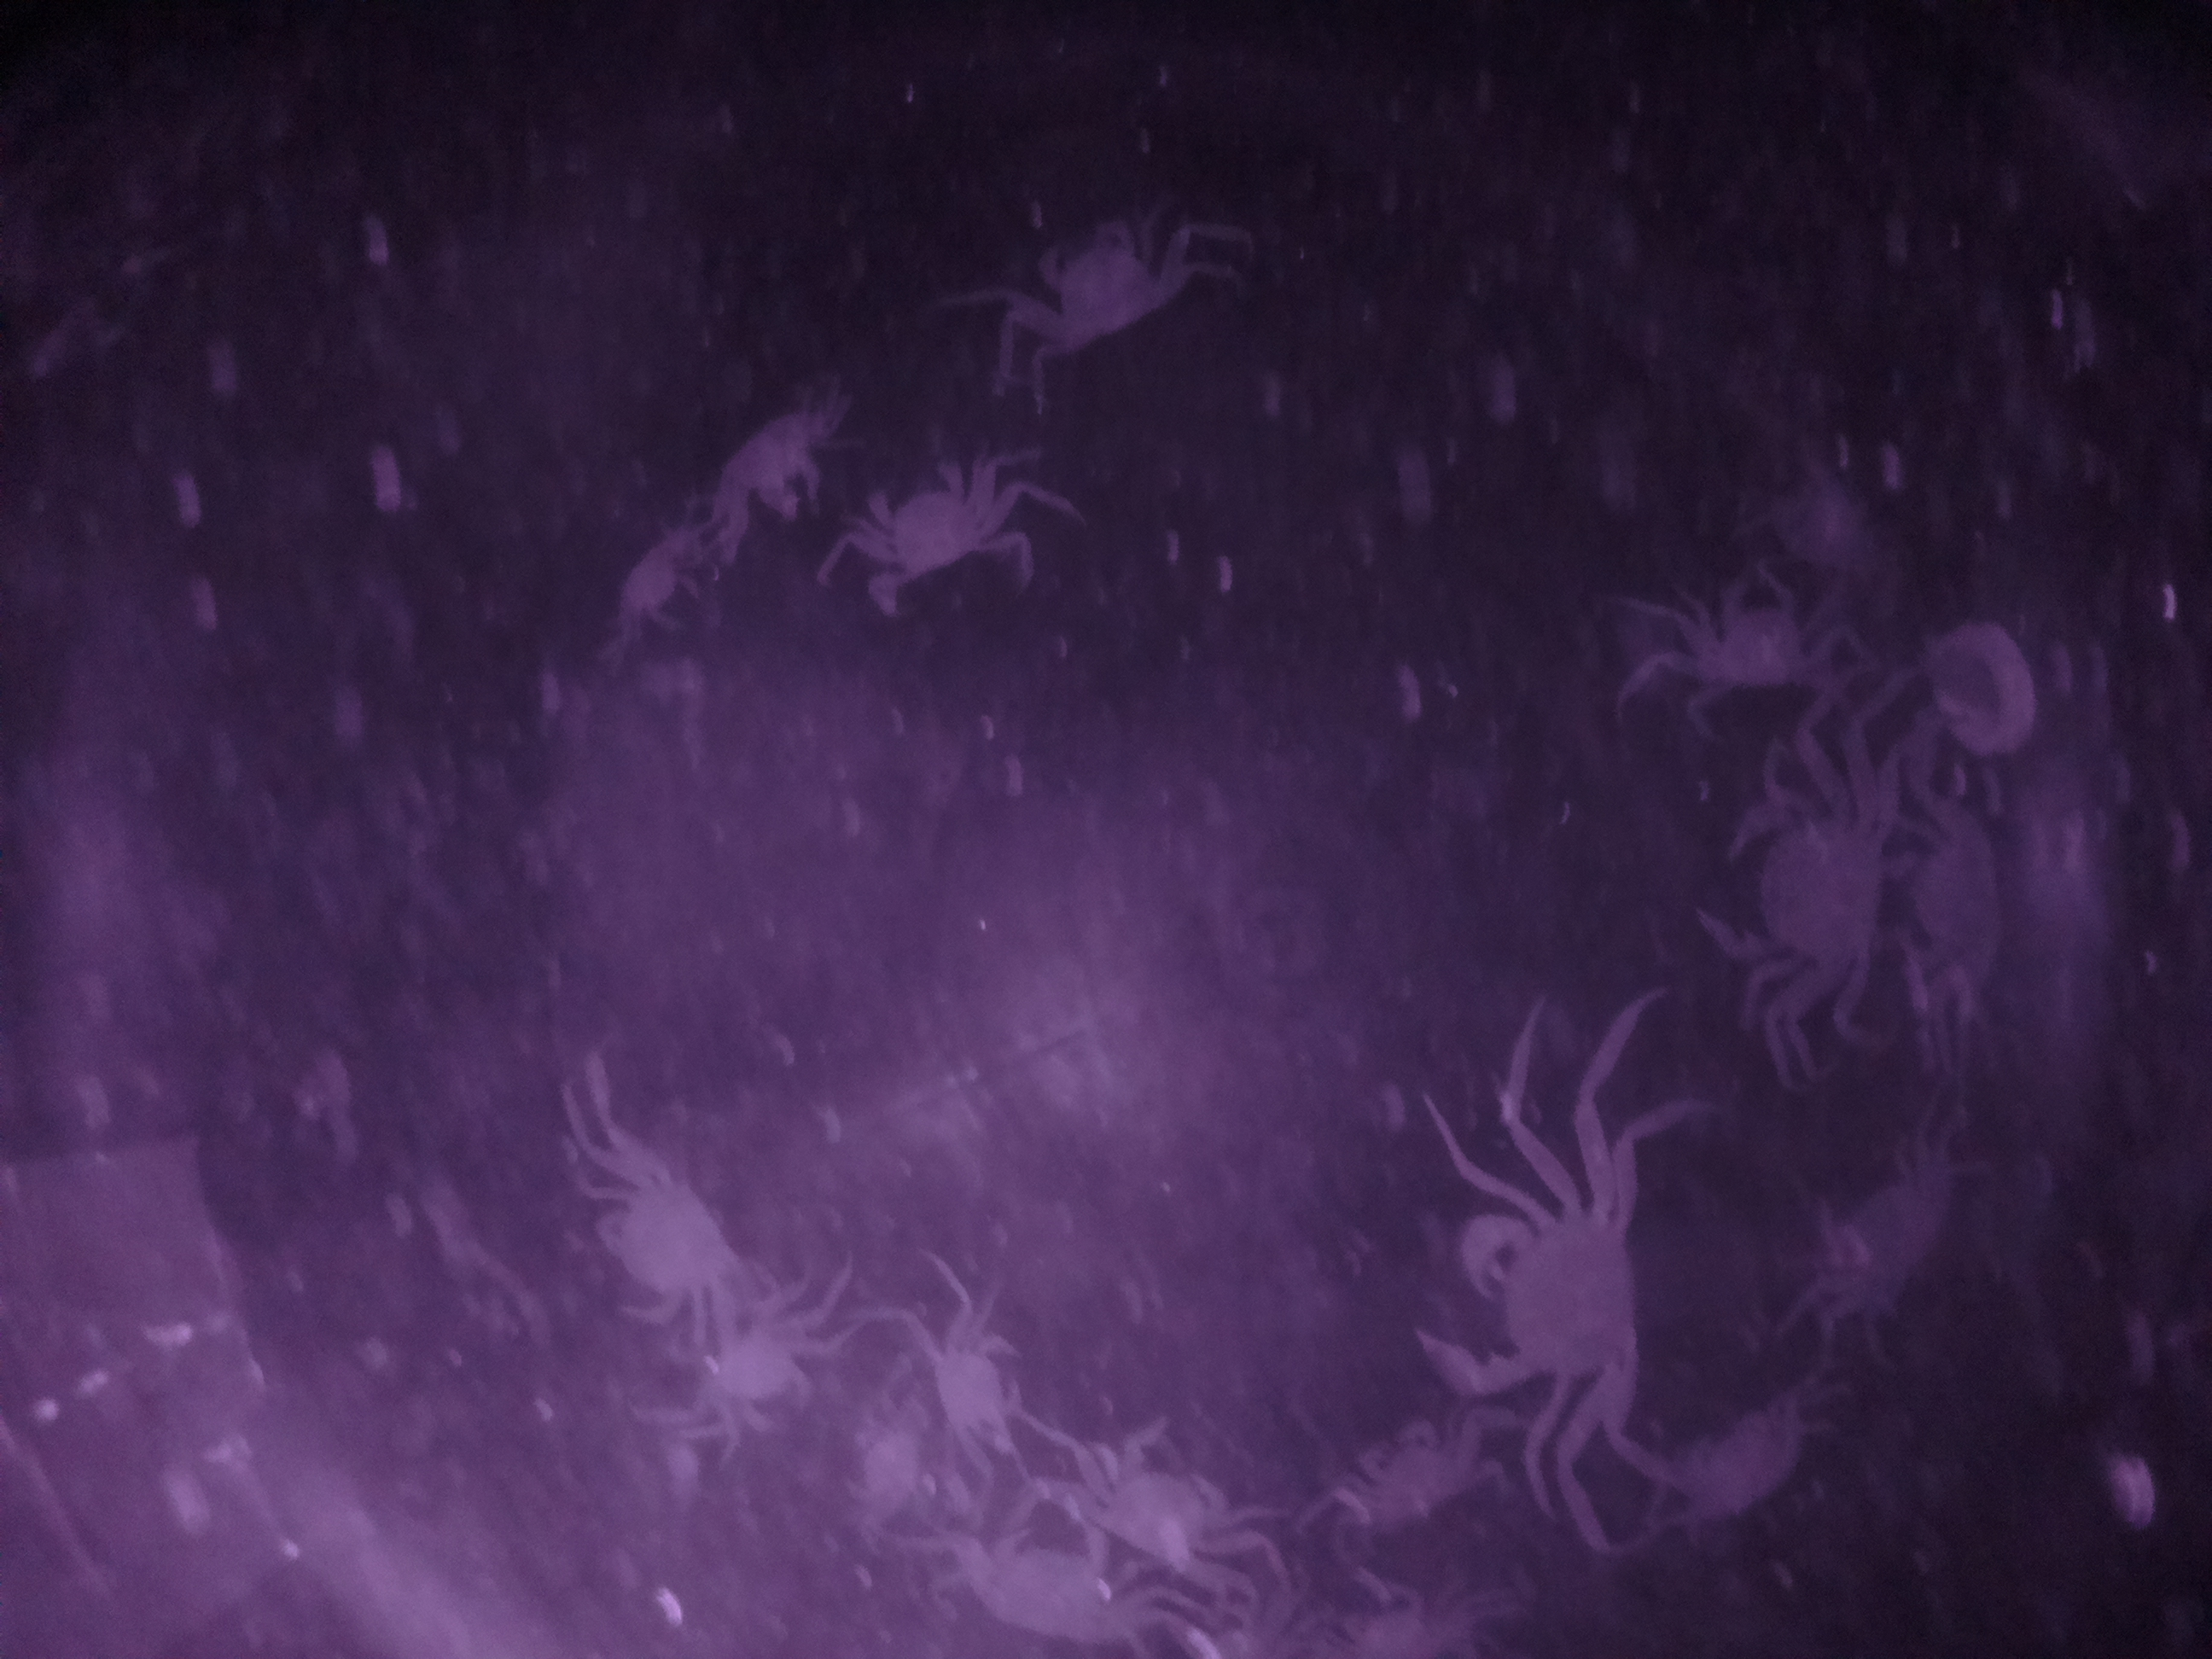Crab: (1395, 1185, 1658, 1422), (1677, 775, 1902, 999), (571, 1141, 759, 1330), (1068, 1410, 1233, 1575), (1012, 204, 1186, 361), (1658, 565, 1843, 701), (693, 1283, 831, 1462), (1303, 1410, 1486, 1534), (853, 453, 1001, 586), (911, 1316, 1038, 1462)
